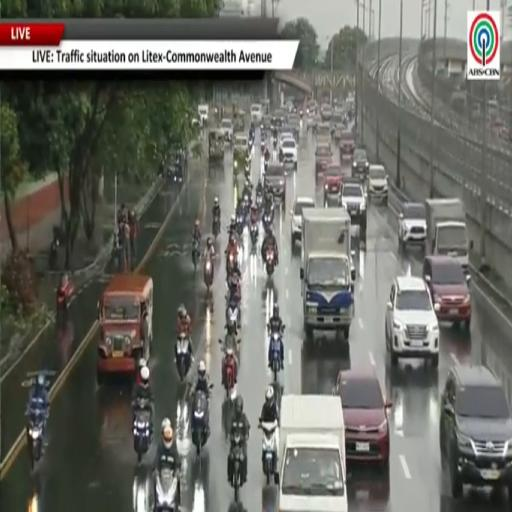car: (440, 364, 511, 504), (334, 367, 392, 468), (385, 276, 439, 367), (423, 255, 471, 329), (339, 179, 366, 241), (399, 203, 426, 248), (291, 197, 314, 249), (367, 165, 387, 204), (324, 163, 342, 202), (315, 141, 332, 175), (280, 138, 297, 169), (352, 149, 369, 180), (340, 130, 355, 158), (221, 119, 233, 141), (279, 132, 294, 148), (251, 104, 263, 124), (198, 104, 209, 125), (321, 104, 332, 121), (306, 100, 318, 114)
jeepney: (97, 274, 153, 383), (233, 133, 248, 177), (209, 130, 224, 164)
motorcycle: (133, 398, 152, 463), (259, 421, 278, 485), (26, 410, 46, 470), (192, 391, 209, 455), (154, 468, 179, 511), (231, 431, 244, 502), (176, 333, 192, 381), (219, 326, 241, 357), (224, 348, 236, 403), (270, 332, 281, 381), (227, 301, 240, 332), (204, 258, 214, 291), (265, 249, 275, 277), (192, 238, 200, 270), (226, 251, 236, 275), (250, 222, 258, 247), (262, 213, 272, 232), (243, 189, 251, 212), (237, 215, 245, 236), (213, 217, 220, 238), (256, 192, 263, 211), (260, 138, 266, 154), (245, 162, 250, 179), (264, 159, 268, 172), (273, 138, 277, 150)
truck: (279, 395, 347, 511), (300, 207, 355, 340), (426, 198, 473, 274)
